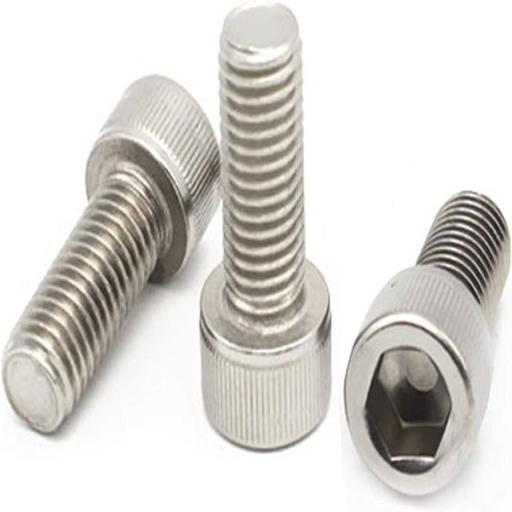Hex-Allen: (341, 267, 494, 500)
